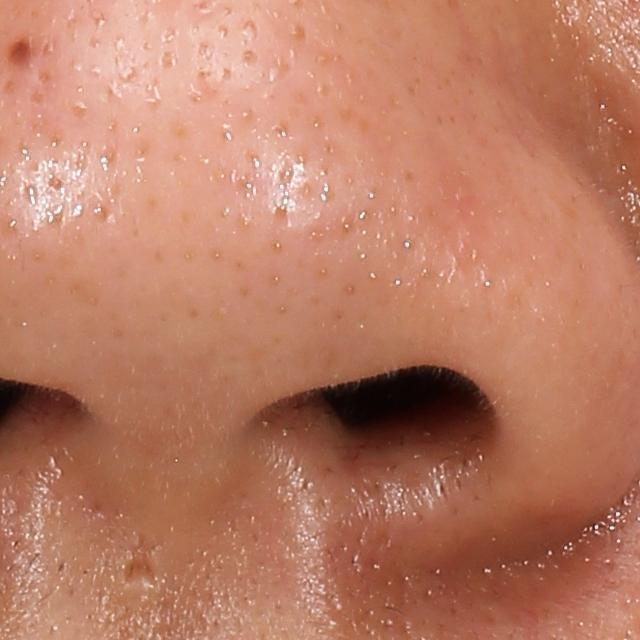atrophic_scar: (120, 533, 166, 594)
nevus: (3, 33, 41, 72)
